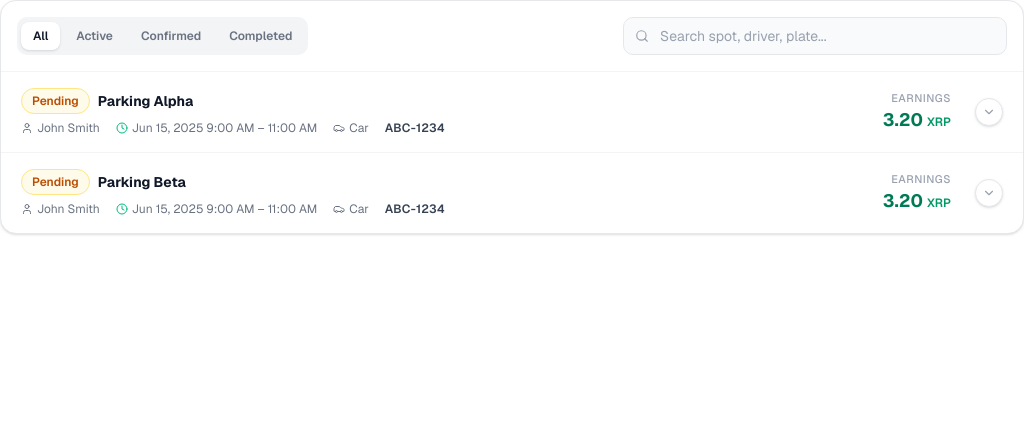
Scenario: BookingList Component › Multiple Bookings - Expand Behavior › expanding second booking shows its details
The image size is (1024, 431).
What coordinates should you click on to do the following:
click the heading "Parking Beta"
I would click on:
 (142, 182)
Its box is [98,172,186,192].
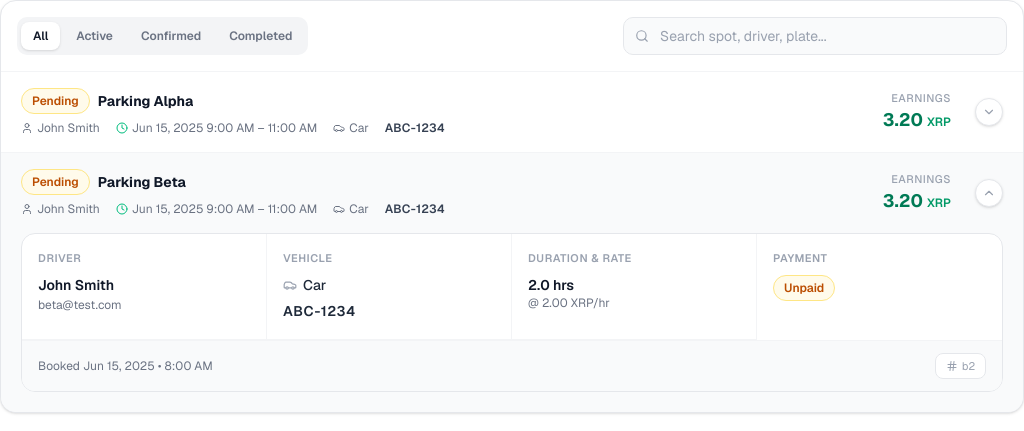
Now the text "beta@test.com" is shown, box [38,296,122,312]
